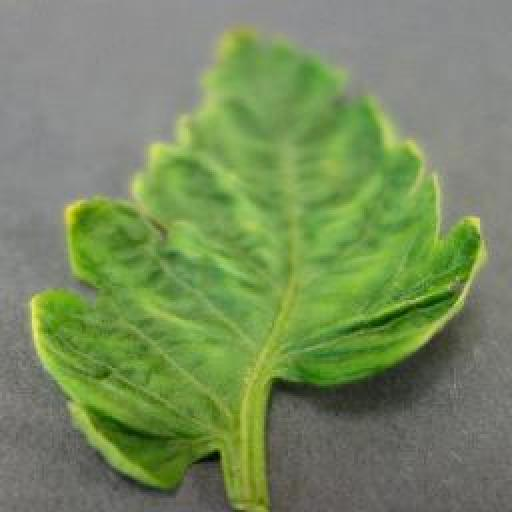disease_tomato: (31, 30, 487, 494)
